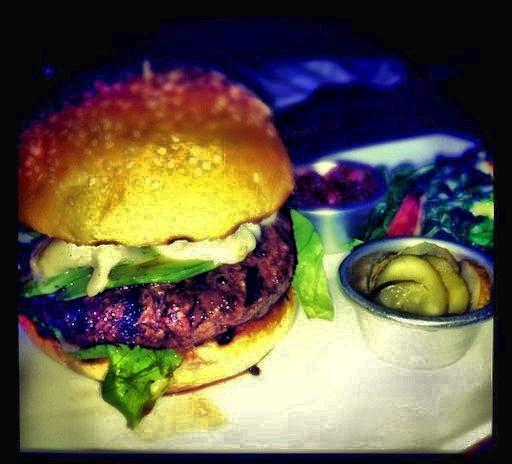burger: (41, 69, 316, 403)
